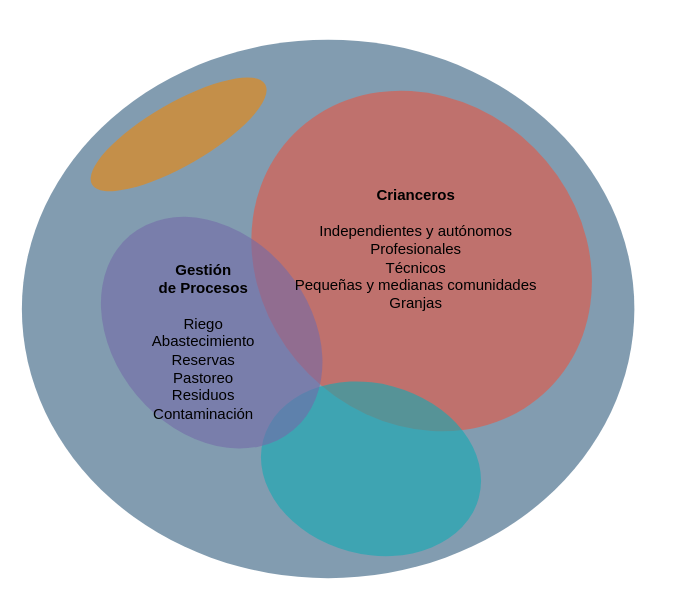
This 684x603 diagram has some shape labels left out. Each missing label, with the centre of its shape:
"Clima y Ecosistema Praderas Acuíferos" goes at (x=178, y=134).
"Recursos Agua Suelo Animales Fertilizantes Alimentos" goes at (x=370, y=468).
